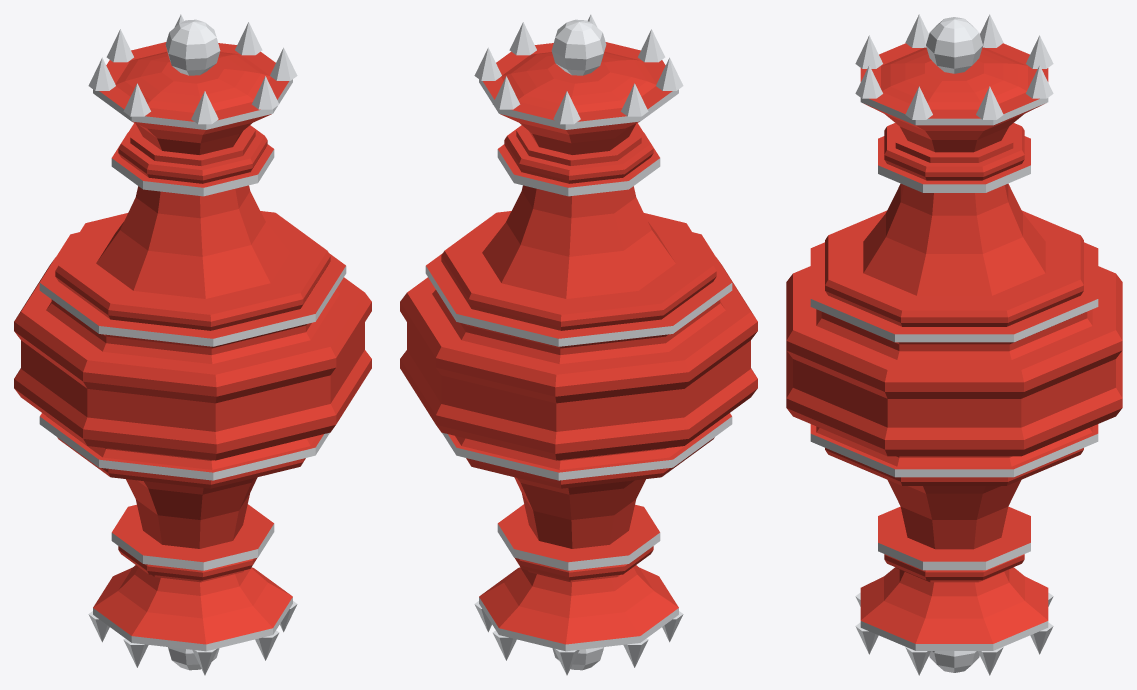
Rendered from queen-faceted.glb.
The picture shows the model from 3 angles, left to right: view 1: azimuth 30°, elevation 25°; view 2: azimuth 150°, elevation 25°; view 3: azimuth 270°, elevation 25°; orthographic projection.
Visible parts, largest first — view 1: queen-faceted; view 2: queen-faceted; view 3: queen-faceted.
Part boxes in pixels (x1,y1,x2,y2): queen-faceted: (14,14,371,675); queen-faceted: (400,14,757,675); queen-faceted: (786,14,1122,675).
Size of the model in its own units: 0.4547 by 0.9718 by 0.4547.
